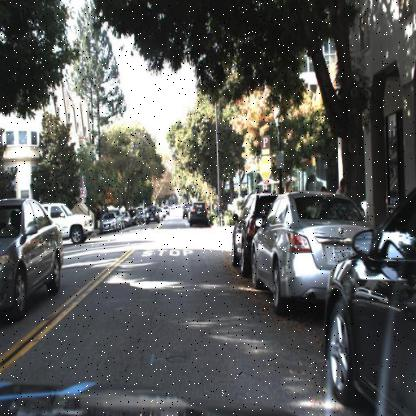car: (324, 184, 416, 416), (246, 186, 328, 323), (0, 197, 64, 322), (226, 192, 262, 278), (30, 201, 94, 243), (142, 202, 160, 229), (100, 212, 120, 234)
